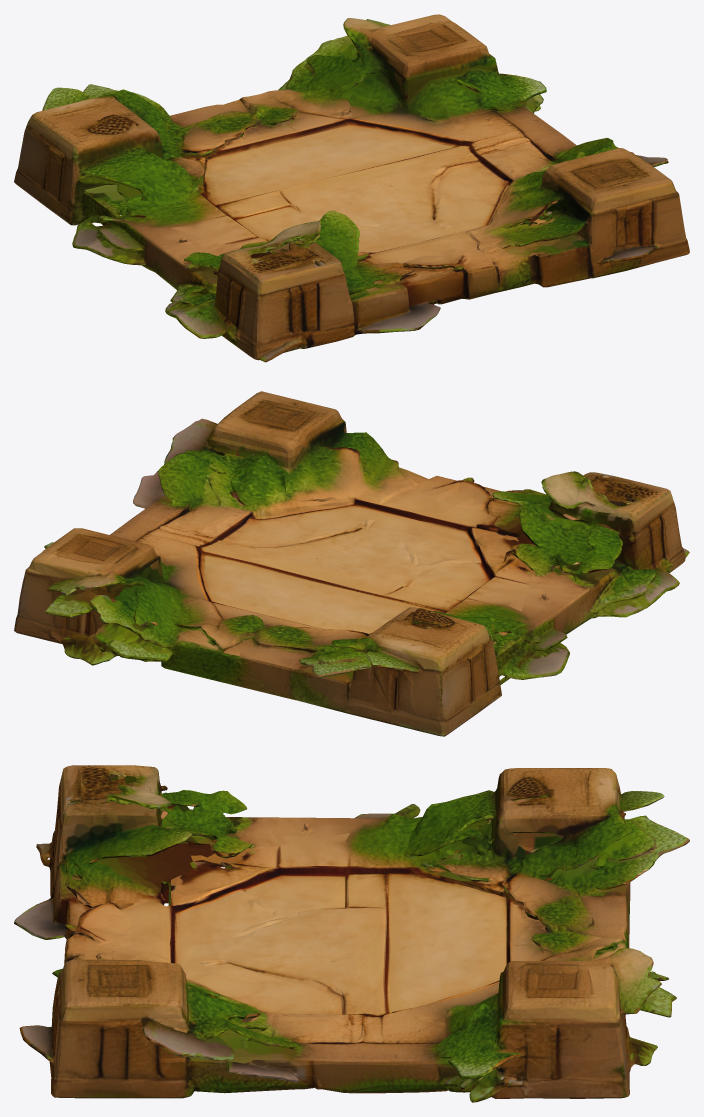
File: mossy-stone-floor-slab-optimized.glb
3 renders of one model, top to bottom at view 1: azimuth 30°, elevation 25°; view 2: azimuth 150°, elevation 25°; view 3: azimuth 270°, elevation 25°, orthographic. The views are drawn at different scales.
Parts seen in each view (by area): view 1: facc8e1d-36ed-4894-a57d-0cf97086193a_texturing; view 2: facc8e1d-36ed-4894-a57d-0cf97086193a_texturing; view 3: facc8e1d-36ed-4894-a57d-0cf97086193a_texturing.
Part boxes in pixels (x1,y1,x2,y2): facc8e1d-36ed-4894-a57d-0cf97086193a_texturing: (14,14,689,362); facc8e1d-36ed-4894-a57d-0cf97086193a_texturing: (14,391,689,736); facc8e1d-36ed-4894-a57d-0cf97086193a_texturing: (14,765,689,1102).
Size of the model in its own units: 2 by 0.3477 by 1.99.
Materials: 1 (1 with a texture image).
